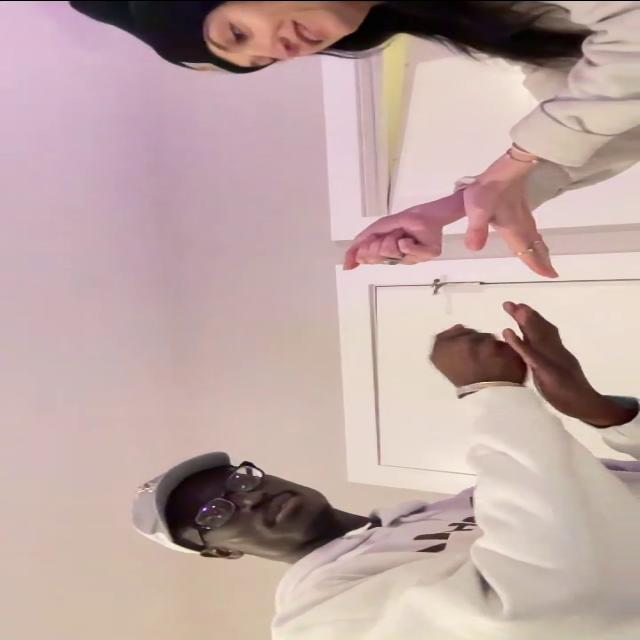Rock: (425, 323, 529, 387), (344, 212, 448, 270)
